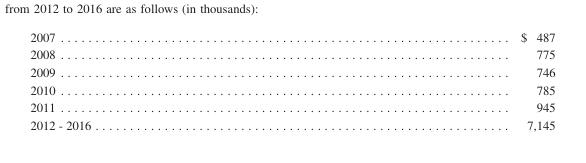table: (29, 29, 554, 131)
table column: (29, 29, 305, 131), (305, 29, 554, 131)
table row: (29, 62, 554, 80), (29, 80, 554, 98), (29, 45, 554, 62), (29, 98, 554, 115), (29, 29, 554, 45), (29, 115, 554, 131)
